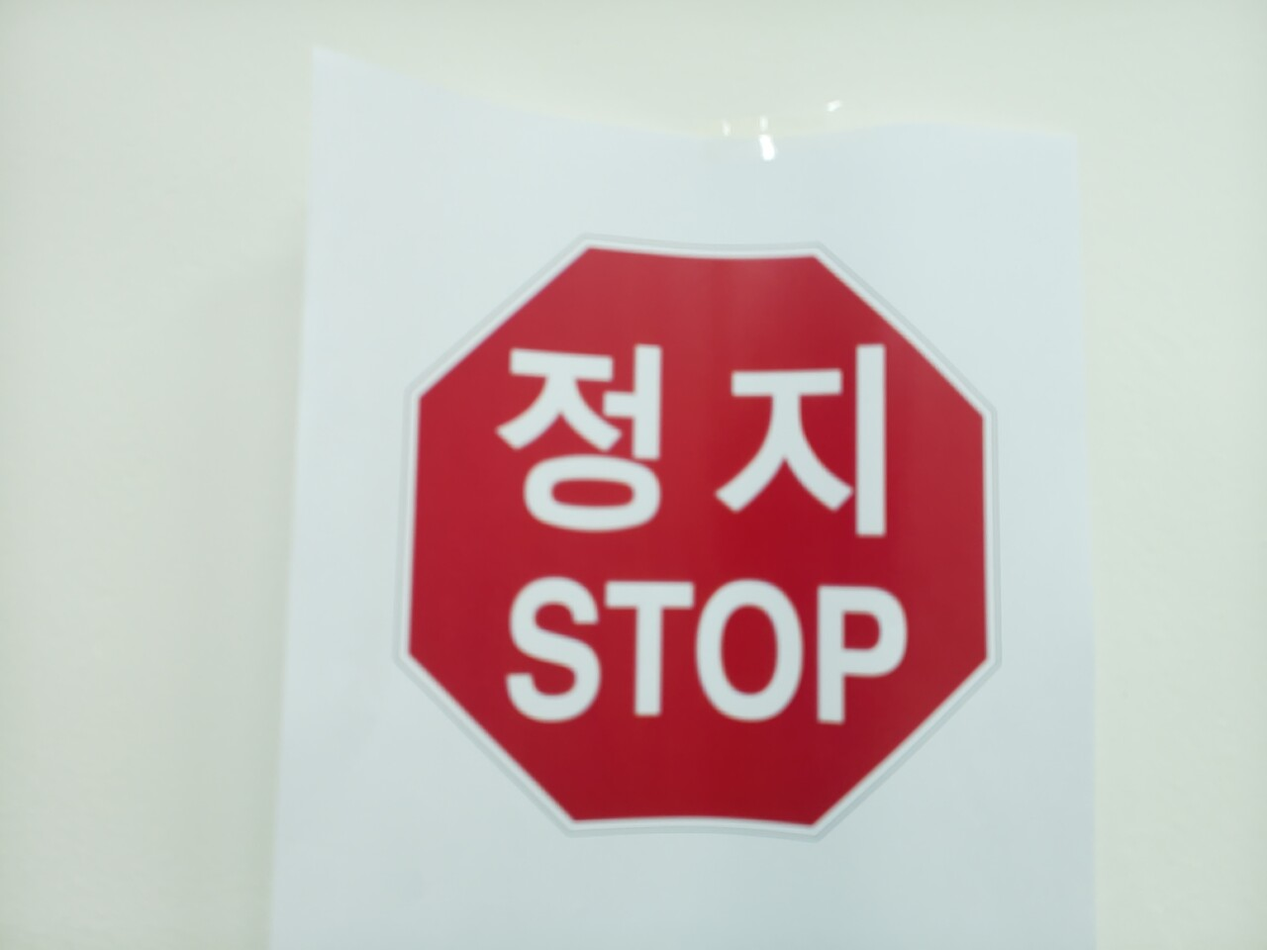stop: (394, 234, 1002, 840)
